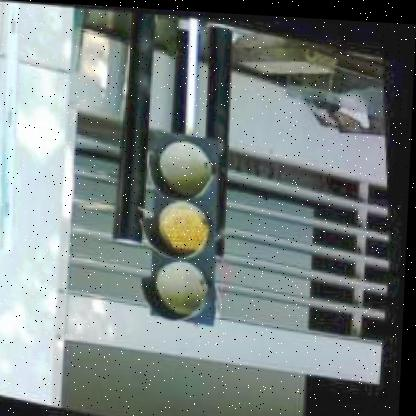Traffic Light -Yellow-: (127, 124, 247, 326)
